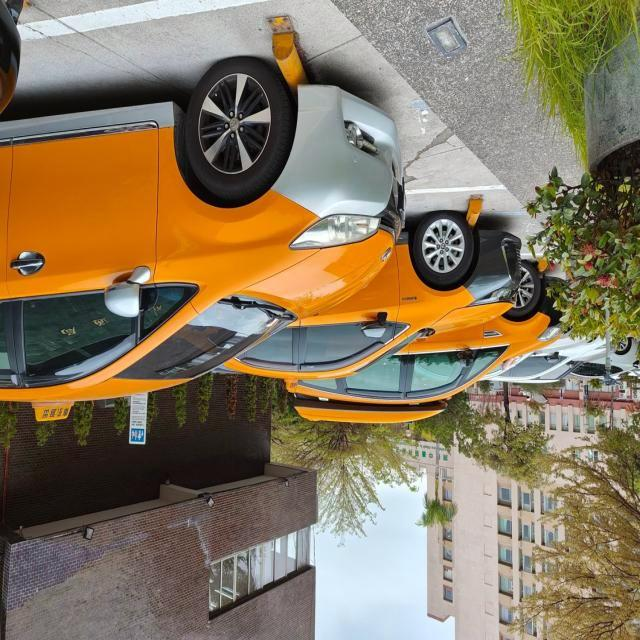taxi: (4, 46, 413, 423), (231, 203, 529, 397), (295, 296, 591, 437)
